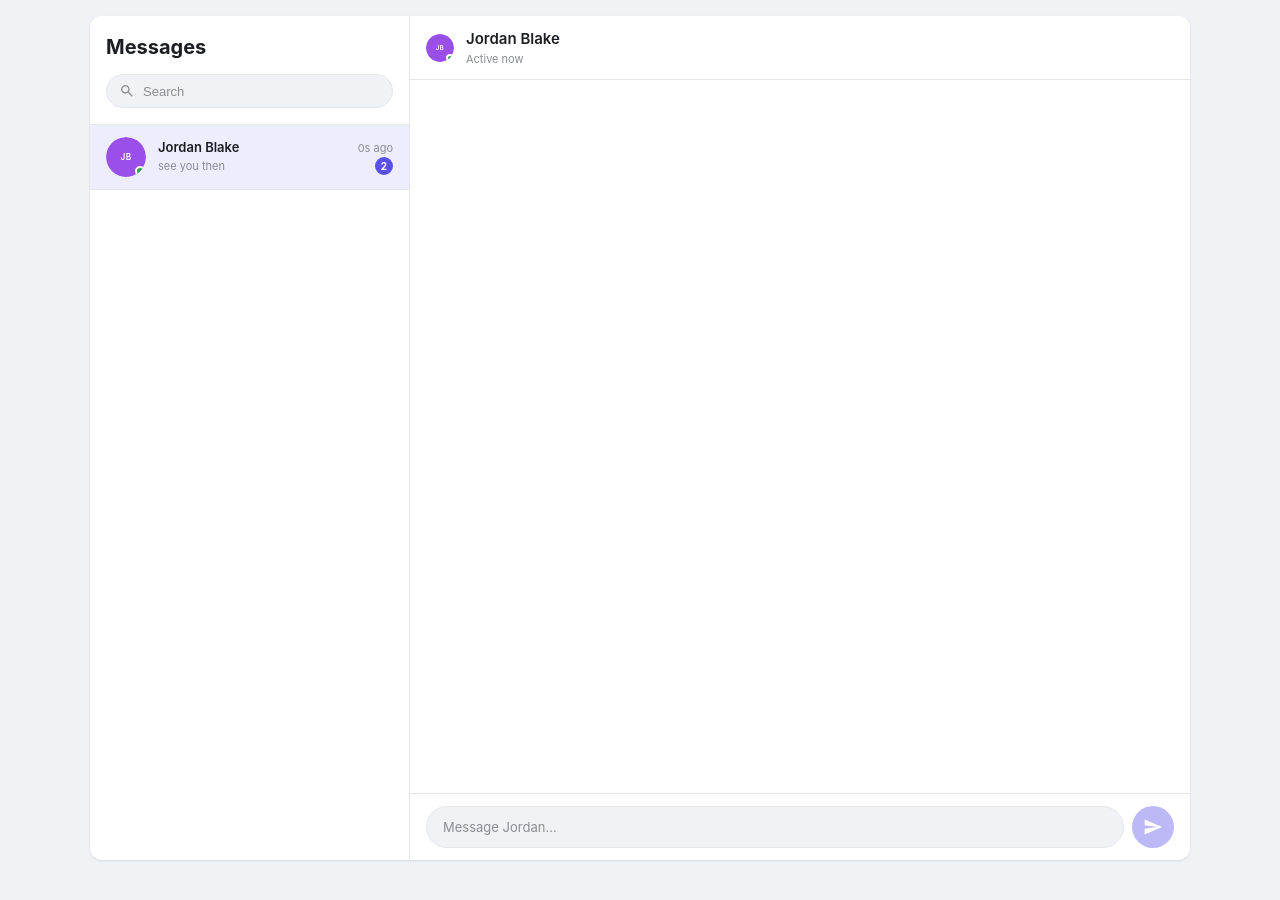
Test case: MessagesPage › sending a message POSTs to the active conversation
Type "on my way" into the field with placeholder "Message Jordan...".
click(775, 827); type("on my way")  # box [426, 806, 1124, 848]
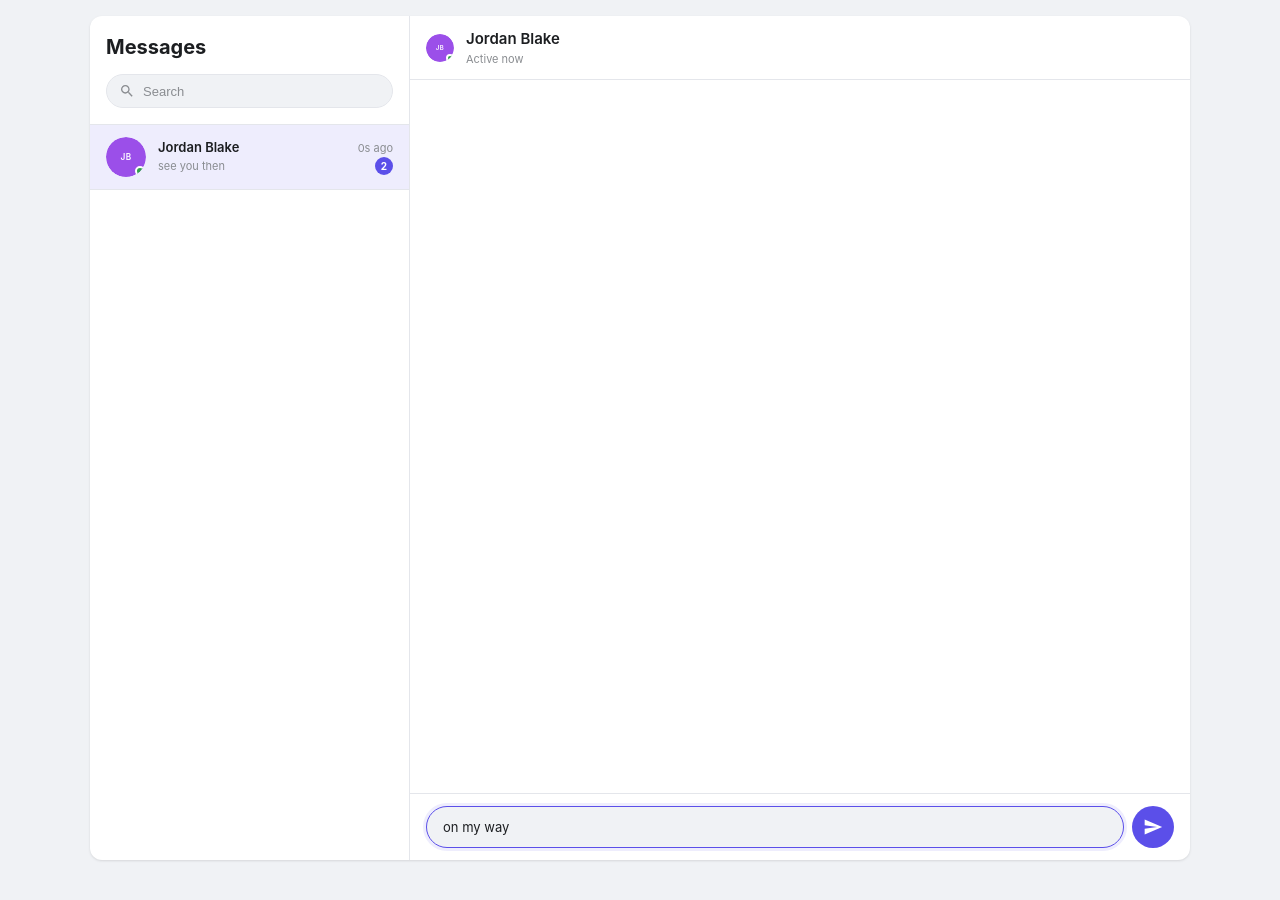
Click the button named "Send".
click(1153, 827)  # box [1132, 806, 1174, 848]
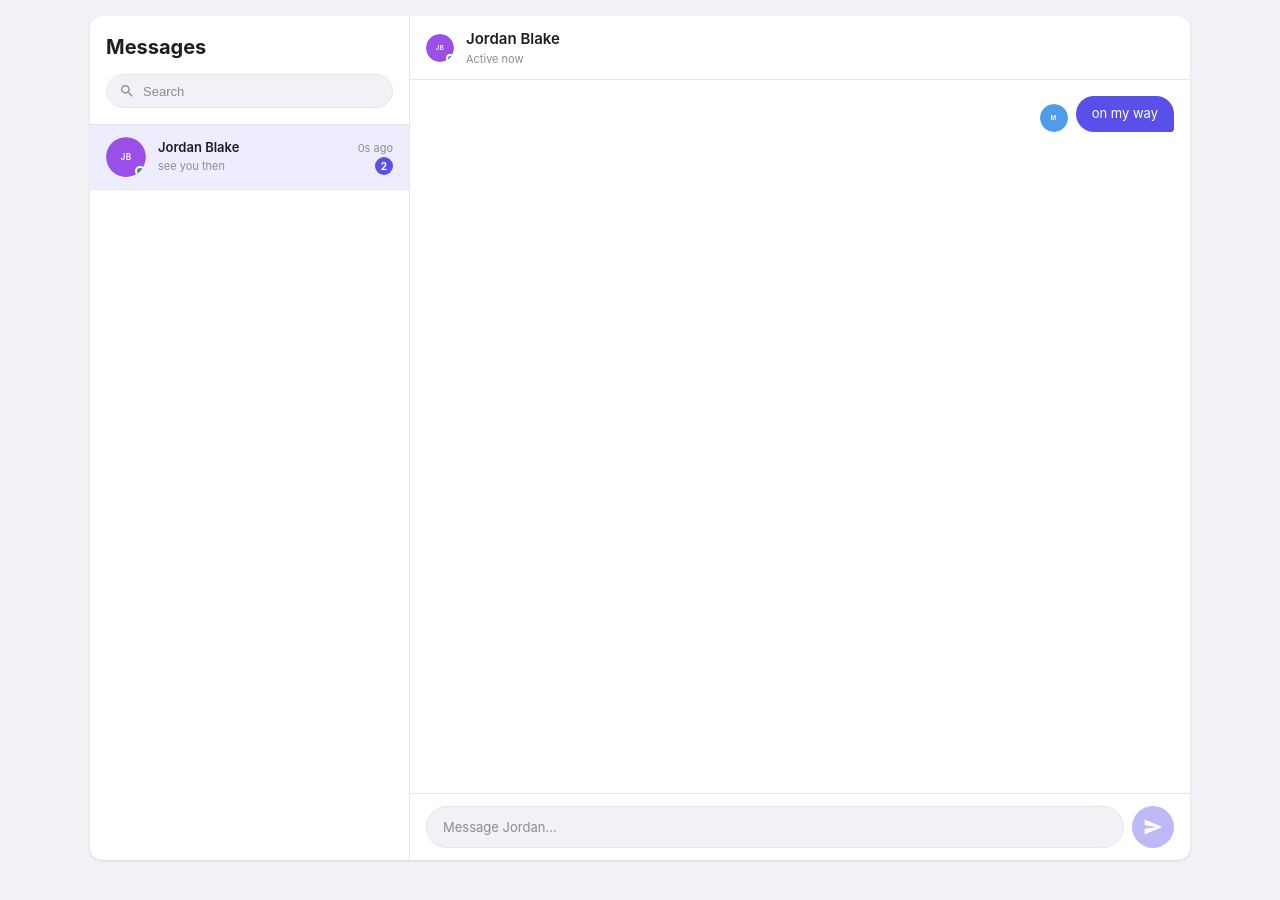
Now the text "on my way" is shown, box [1076, 96, 1174, 132]
